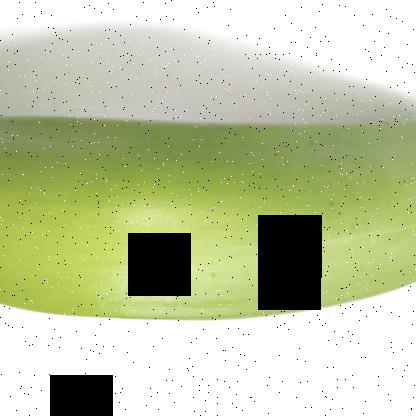freshunripe: (1, 95, 415, 336)
